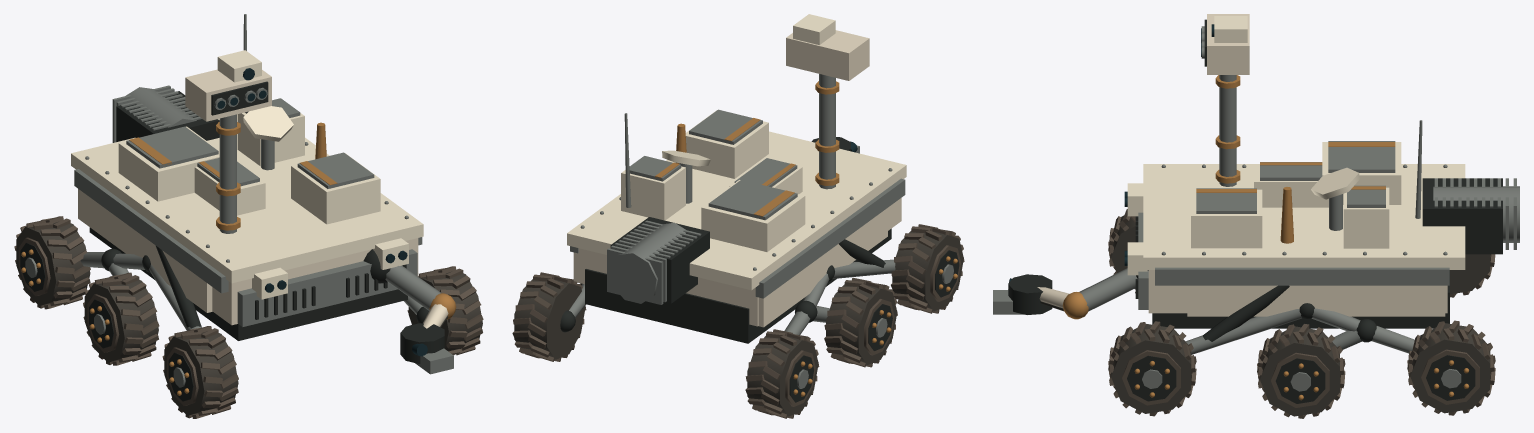
The model's file is mwg-rover.glb.
The picture shows the model from 3 angles, left to right: view 1: azimuth 30°, elevation 25°; view 2: azimuth 150°, elevation 25°; view 3: azimuth 270°, elevation 25°; orthographic projection. The views are drawn at different scales.
Parts seen in each view (by area): view 1: chassis_surface (×5), spin_0_surface (×3), spin_1_surface (×3), spin_2_surface (×3), mast_head_surface (×3), spin_3_surface (×2), suspension_left, arm_turret_surface (×2), arm_shoulder_surface (×2); view 2: chassis_surface (×5), spin_2_surface (×3), spin_0_surface (×3), spin_1_surface (×3), spin_5_surface (×2), mast_head_surface (×2), suspension_left, suspension_right; view 3: chassis_surface (×5), spin_5_surface (×3), spin_3_surface (×3), spin_4_surface (×3), suspension_right, mast_head_surface (×2), arm_turret_surface (×2), arm_shoulder_surface, spin_2_surface, spin_0_surface, arm_elbow_surface.
Part boxes in pixels (box(x1,y1,x2,y2)): chassis_surface (×5): box(71, 14, 423, 340); spin_0_surface (×3): box(162, 326, 238, 418); spin_1_surface (×3): box(83, 272, 159, 365); spin_2_surface (×3): box(14, 216, 90, 309); mast_head_surface (×3): box(185, 50, 271, 121); spin_3_surface (×2): box(407, 266, 483, 355); suspension_left: box(80, 246, 201, 330); arm_turret_surface (×2): box(400, 323, 453, 374); arm_shoulder_surface (×2): box(363, 249, 441, 310); chassis_surface (×5): box(567, 74, 906, 343); spin_2_surface (×3): box(745, 329, 819, 418); spin_0_surface (×3): box(891, 224, 964, 313); spin_1_surface (×3): box(824, 277, 897, 367); spin_5_surface (×2): box(512, 272, 586, 361); mast_head_surface (×2): box(786, 14, 869, 80); suspension_left: box(784, 239, 895, 334); suspension_right: box(560, 284, 585, 332); chassis_surface (×5): box(1127, 75, 1519, 328); spin_5_surface (×3): box(1407, 320, 1495, 415); spin_3_surface (×3): box(1108, 321, 1196, 416); spin_4_surface (×3): box(1257, 324, 1345, 418); suspension_right: box(1185, 285, 1414, 354); mast_head_surface (×2): box(1207, 14, 1249, 74); arm_turret_surface (×2): box(993, 274, 1052, 314); arm_shoulder_surface: box(1079, 268, 1137, 310); spin_2_surface: box(1450, 254, 1490, 294); spin_0_surface: box(1111, 215, 1135, 289); arm_elbow_surface: box(1062, 292, 1088, 319).
Bounding box in the file's own units: 2.3 × 2.21 × 3.47.
